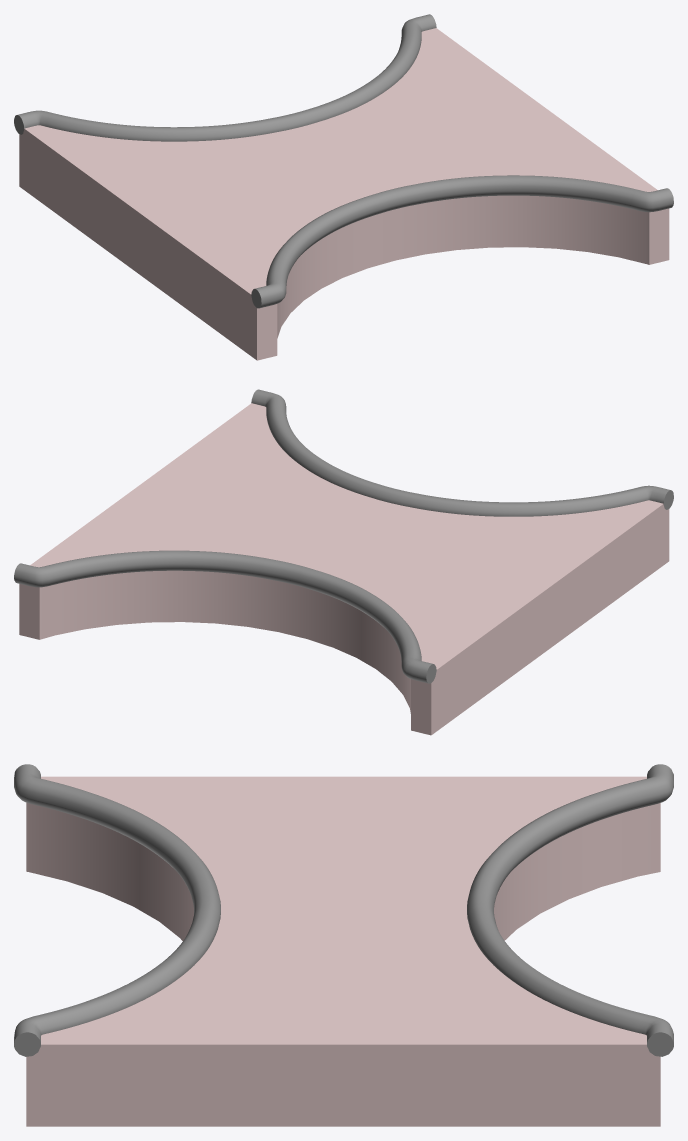
Rendered from platform_trimmed_V1.fbx.
The picture shows the model from 3 angles, top to bottom: view 1: azimuth 30°, elevation 25°; view 2: azimuth 150°, elevation 25°; view 3: azimuth 270°, elevation 25°; orthographic projection. The views are drawn at different scales.
Parts seen in each view (by area): view 1: platform trimmed, platform barrier; view 2: platform trimmed, platform barrier; view 3: platform trimmed, platform barrier.
Part boxes in pixels (x1,y1,x2,y2): platform trimmed: [19, 28, 669, 360]; platform barrier: [14, 14, 673, 308]; platform trimmed: [19, 403, 669, 735]; platform barrier: [14, 389, 673, 683]; platform trimmed: [26, 776, 660, 1126]; platform barrier: [14, 764, 673, 1056].
Bounding box in the file's own units: 700 × 115 × 728.
